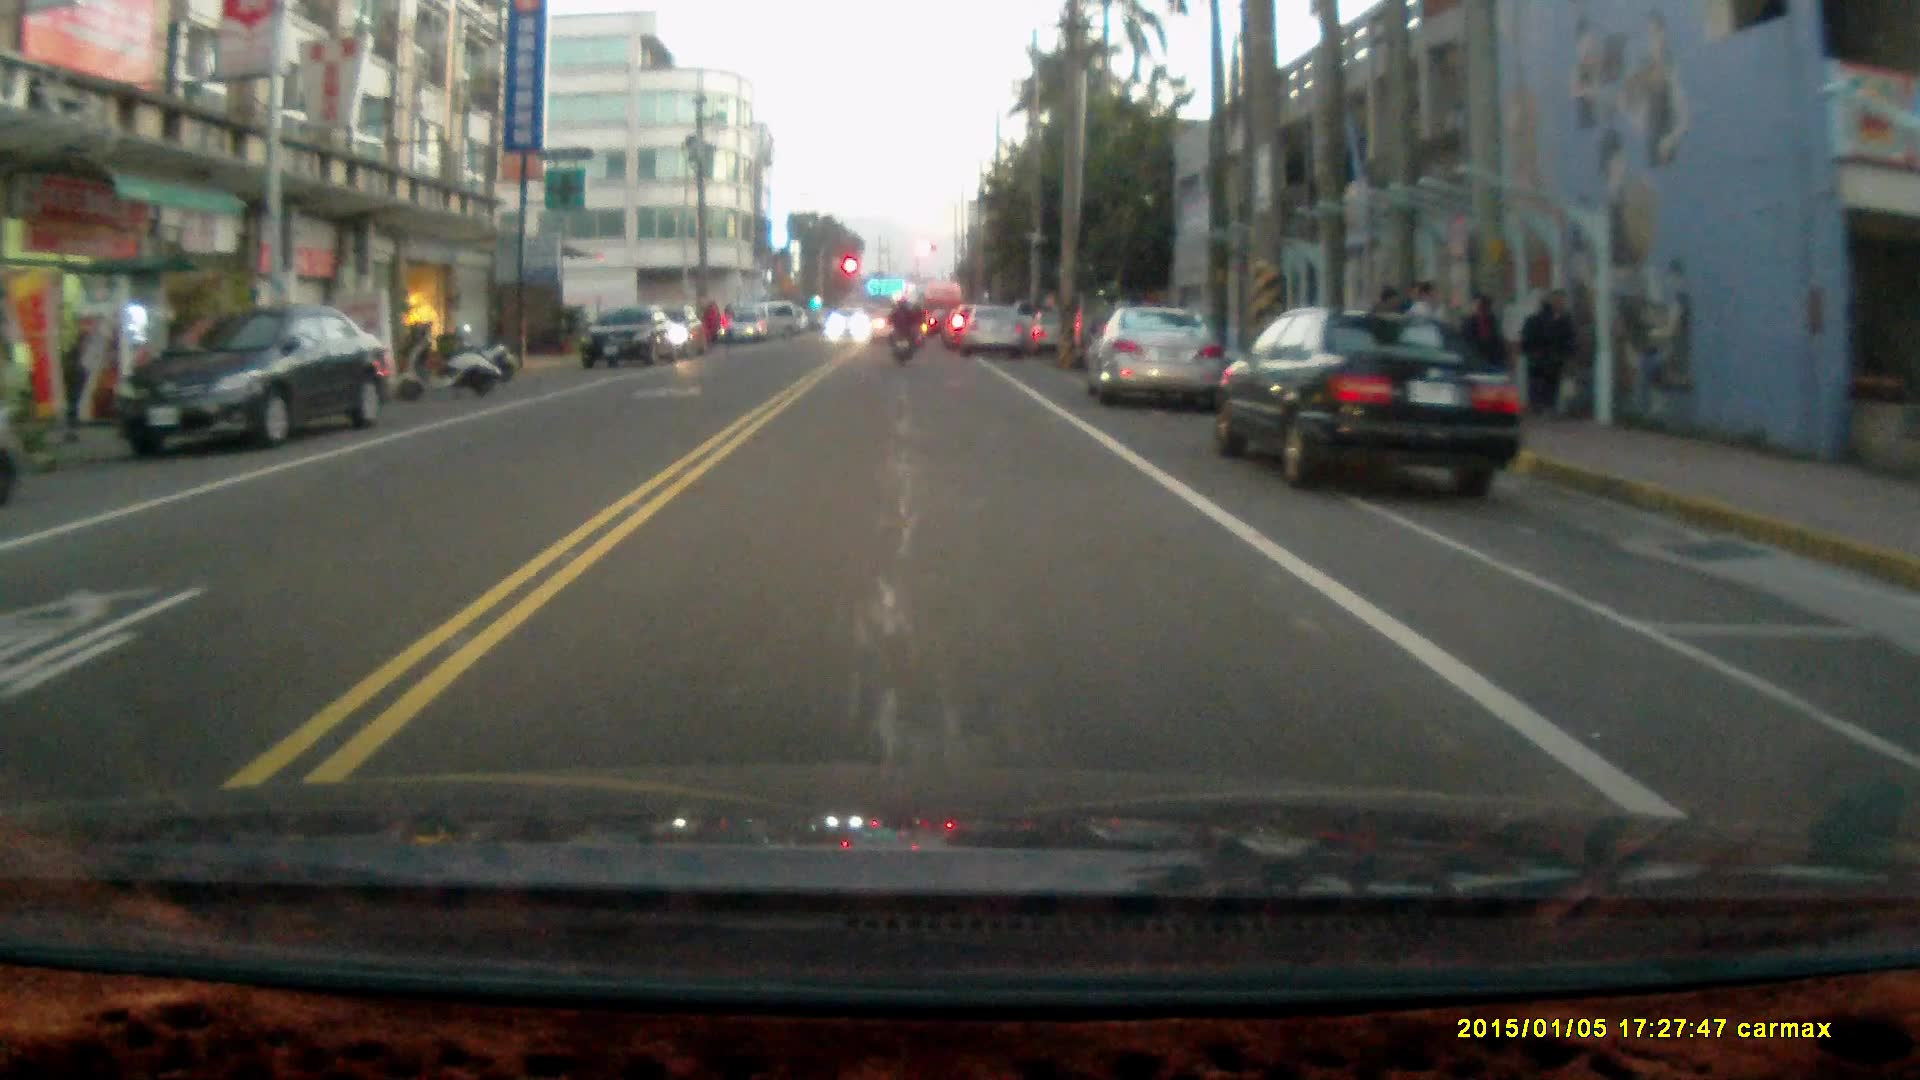pedestrian: (1520, 281, 1577, 418), (1455, 289, 1507, 403), (1408, 277, 1452, 392)
rider: (886, 295, 917, 365)
vehicle: (1207, 299, 1535, 488), (110, 300, 399, 447), (1089, 300, 1228, 407), (584, 306, 687, 368), (968, 300, 1029, 351)
